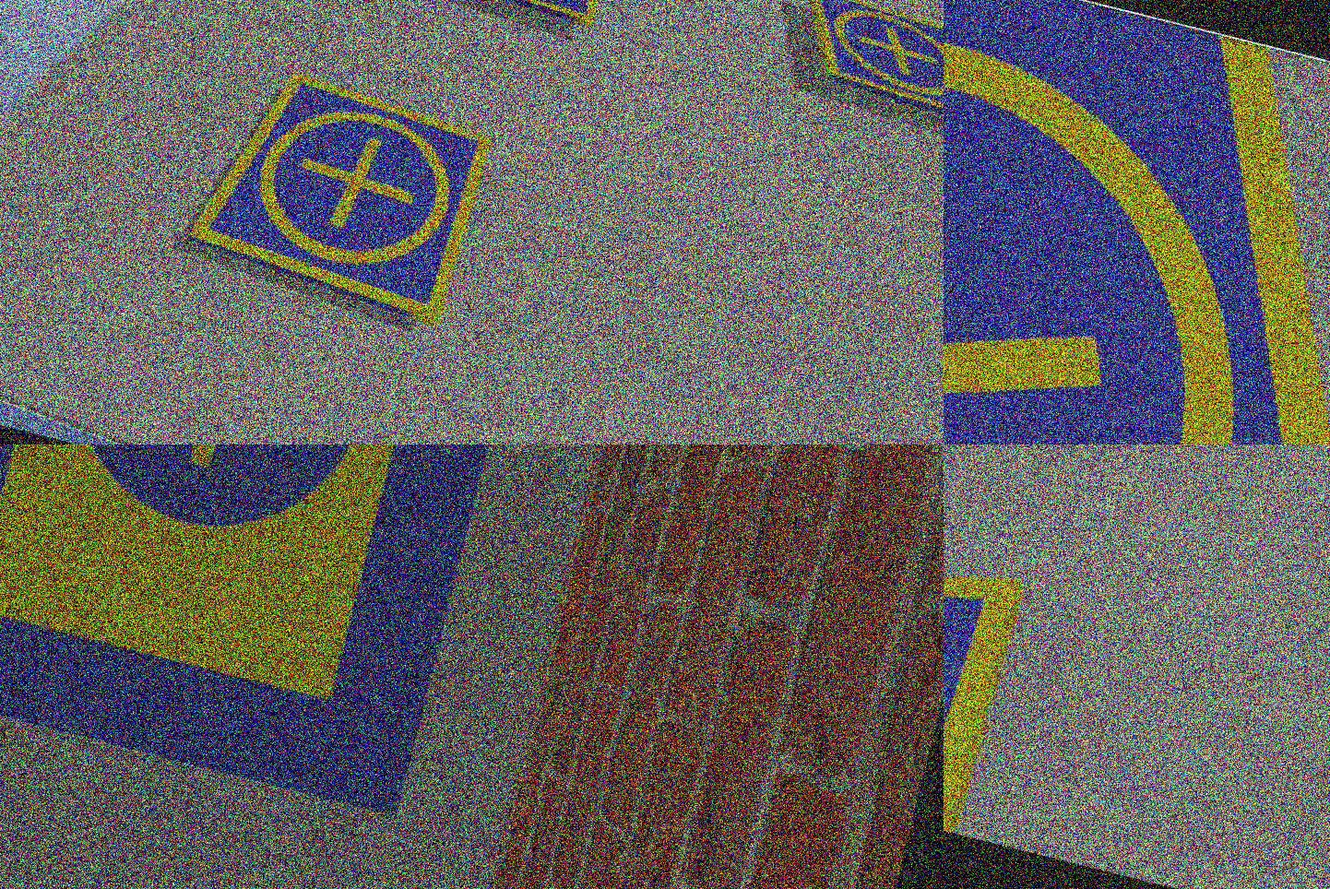large_base: (1, 445, 532, 819)
small_base: (944, 1, 1330, 445), (176, 53, 505, 341), (944, 531, 1029, 835), (783, 1, 944, 137), (428, 1, 620, 33)
